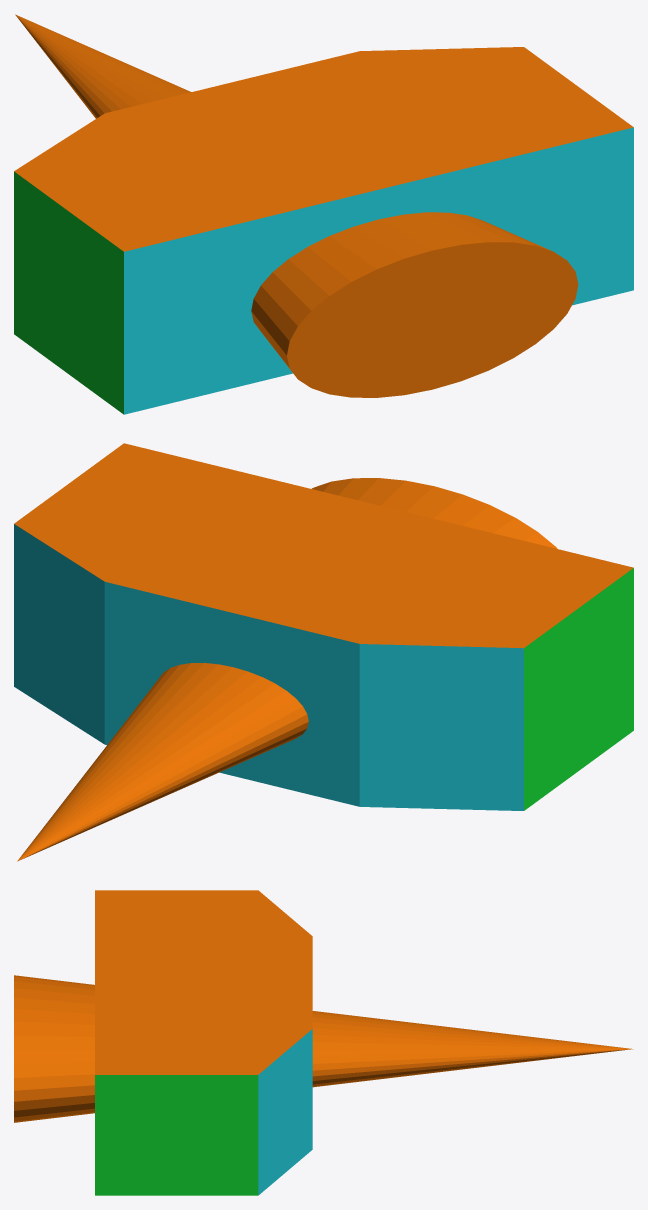
File: player.fbx
3 views of the same model, one above another, from view 1: azimuth 30°, elevation 25°; view 2: azimuth 150°, elevation 25°; view 3: azimuth 270°, elevation 25° (orthographic). The views are drawn at different scales.
Parts seen in each view (by area): view 1: Cube; view 2: Cube; view 3: Cube.
Part boxes in pixels (left/top/right/bottom): Cube: left=14, top=14, right=633, bottom=414; Cube: left=14, top=443, right=633, bottom=861; Cube: left=14, top=890, right=632, bottom=1195.
Size of the model in its own units: 10 by 3.05 by 14.19.
